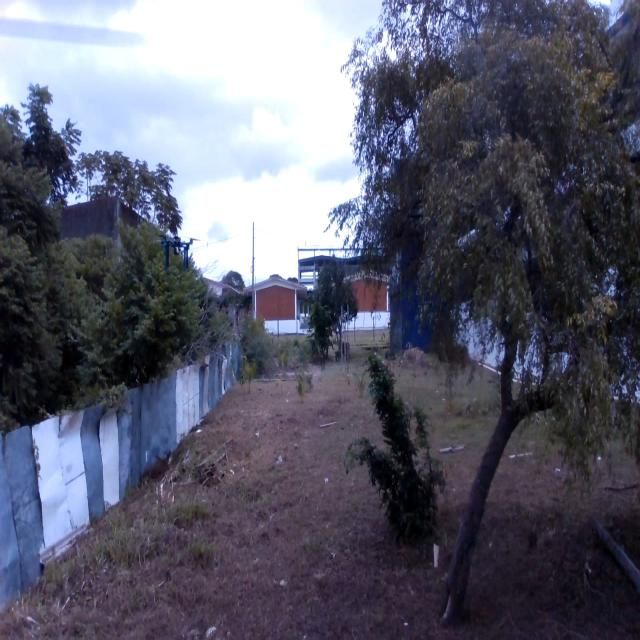-uav-: (156, 225, 198, 274)
